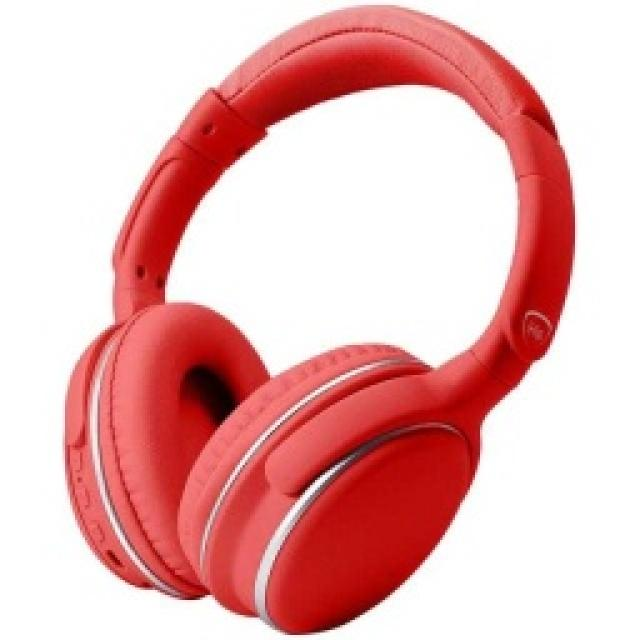headphones: (60, 0, 575, 635)
